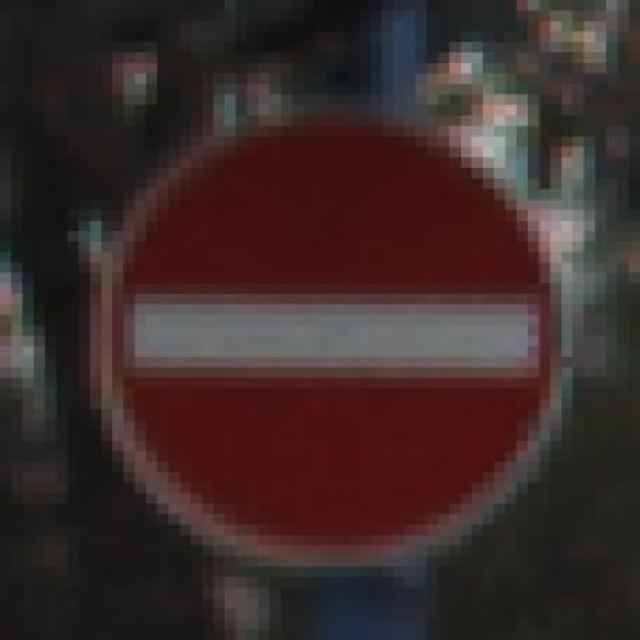No Entry: (67, 102, 584, 564)
